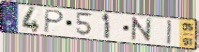1: (99, 13, 112, 40)
4: (21, 6, 41, 34)
5: (75, 10, 94, 38)
I: (166, 19, 174, 46)
N: (130, 16, 153, 43)
P: (43, 9, 66, 34)
